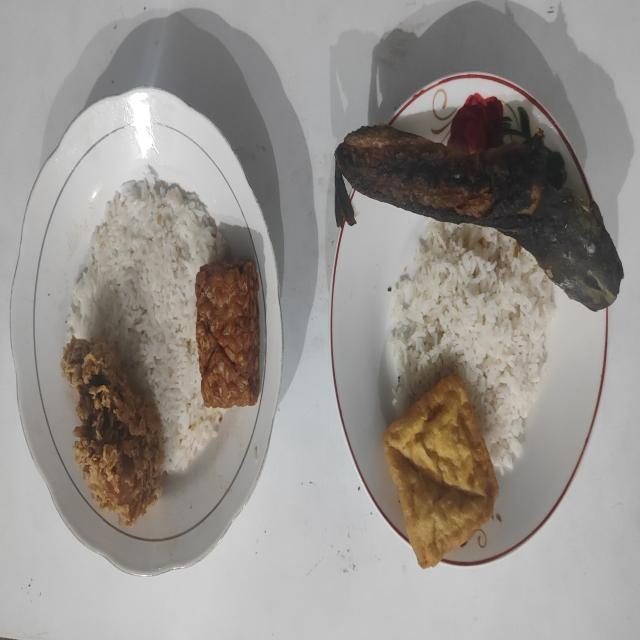nasi_putih: (67, 171, 227, 472), (388, 221, 555, 474)
tahu_goreng: (384, 374, 498, 568)
tempe_goreng: (195, 260, 260, 408)
